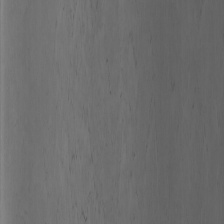silk_spot: (53, 0, 154, 213)
